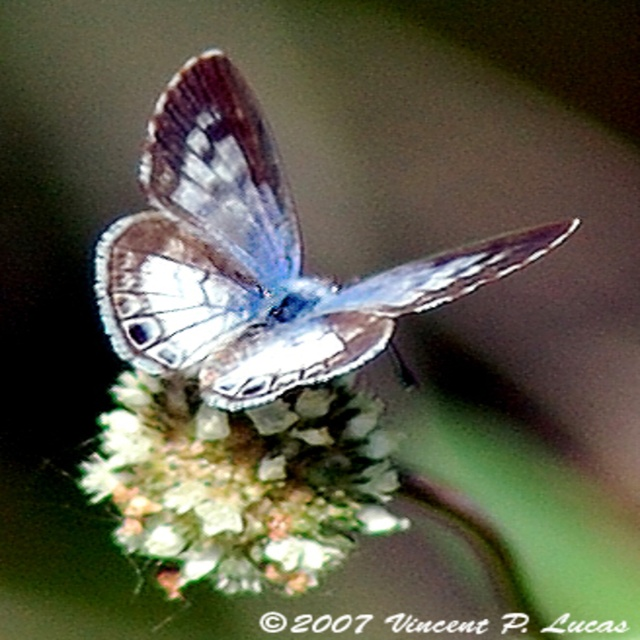Butterfly: (107, 52, 537, 454)
